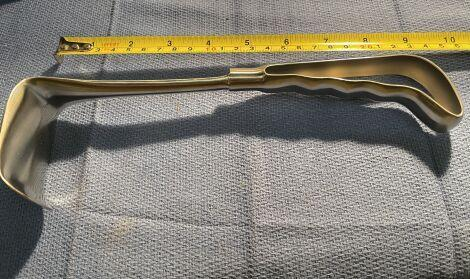Kelly Retractor: (0, 54, 465, 205)
